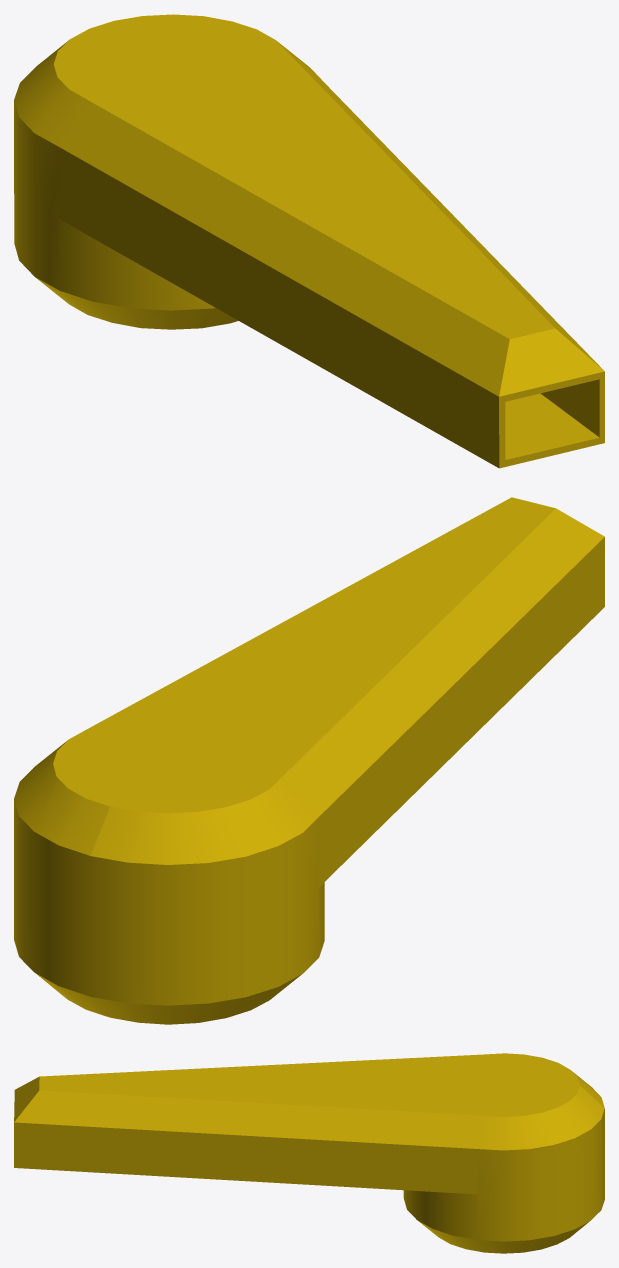
Rendered from original-2.obj.
3 renders of one model, top to bottom at view 1: azimuth 30°, elevation 25°; view 2: azimuth 150°, elevation 25°; view 3: azimuth 270°, elevation 25°, orthographic. The views are drawn at different scales.
Visible parts, largest first — view 1: mesh2/mesh2-geometry#mesh2-geometry; view 2: mesh2/mesh2-geometry#mesh2-geometry; view 3: mesh2/mesh2-geometry#mesh2-geometry.
Boxes of the visible parts, x1,y1,x2,y2 form: mesh2/mesh2-geometry#mesh2-geometry: [14, 14, 604, 468]; mesh2/mesh2-geometry#mesh2-geometry: [14, 497, 604, 1024]; mesh2/mesh2-geometry#mesh2-geometry: [14, 1053, 604, 1253].
Bounding box in the file's own units: 0.1735 × 0.1302 × 0.5095.
